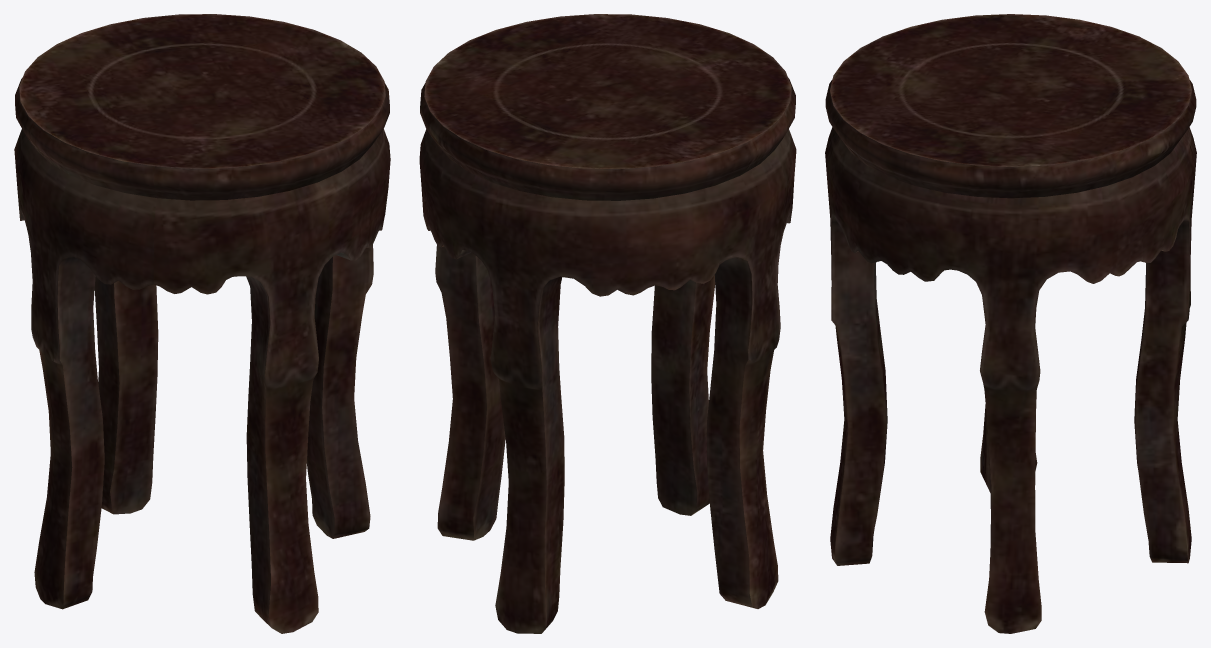
File: WoodenTable_02.glb
3 views of the same model, side by side, from view 1: azimuth 30°, elevation 25°; view 2: azimuth 150°, elevation 25°; view 3: azimuth 270°, elevation 25° (orthographic).
Visible parts, largest first — view 1: WoodenTable_02; view 2: WoodenTable_02; view 3: WoodenTable_02.
Boxes of the visible parts, x1=… form: WoodenTable_02: x1=14, y1=14, x2=390, y2=633; WoodenTable_02: x1=419, y1=14, x2=796, y2=633; WoodenTable_02: x1=825, y1=14, x2=1196, y2=633.
Bounding box in the file's own units: 0.3007 × 0.4177 × 0.3007.
1 material, 1 textured.
